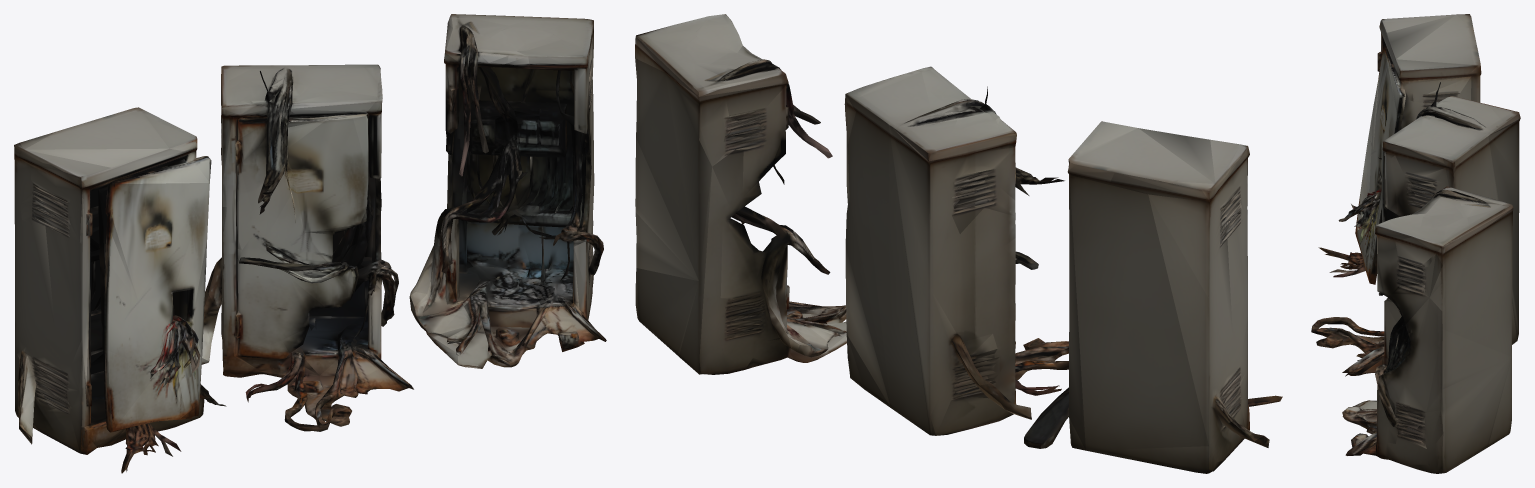
The model's file is BROKEN ELECTRIC CABINET.fbx.
3 renders of one model, left to right at view 1: azimuth 30°, elevation 25°; view 2: azimuth 150°, elevation 25°; view 3: azimuth 270°, elevation 25°, orthographic. The views are drawn at different scales.
Visible parts, largest first — view 1: polySurface2, polySurface1, polySurface3; view 2: polySurface2, polySurface1, polySurface3; view 3: polySurface3, polySurface1, polySurface2.
Boxes of the visible parts, left/top/right/bottom form: polySurface2: left=14, top=107, right=226, bottom=473; polySurface1: left=201, top=64, right=413, bottom=431; polySurface3: left=409, top=14, right=606, bottom=368; polySurface2: left=1024, top=121, right=1282, bottom=473; polySurface1: left=844, top=66, right=1068, bottom=435; polySurface3: left=635, top=14, right=846, bottom=374; polySurface3: left=1342, top=186, right=1513, bottom=473; polySurface1: left=1311, top=82, right=1520, bottom=376; polySurface2: left=1318, top=14, right=1481, bottom=284.
Size of the model in its own units: 1.08 by 0.5416 by 0.3955.
1 material, 1 textured.
